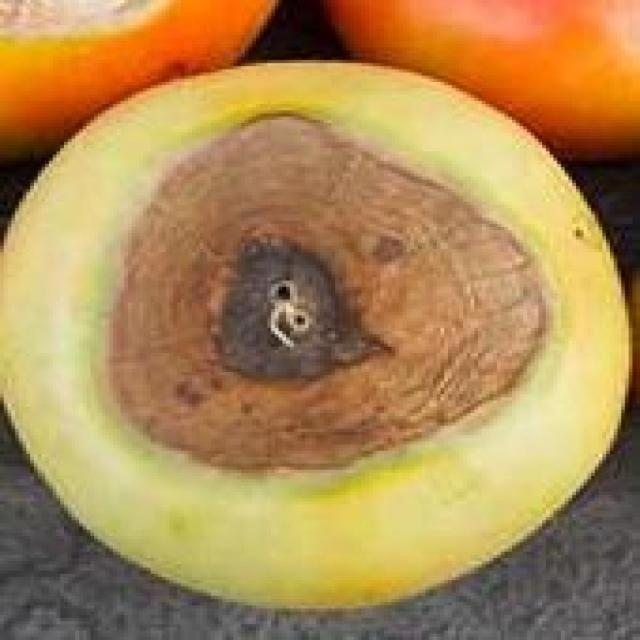Blossom End Rot Fruit: (55, 15, 307, 246)
